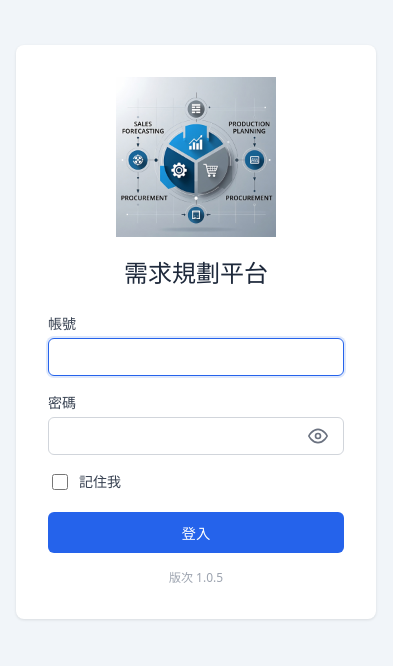
Test: LoginPage › shows validation error when submitting empty form
Click the button "登入" at (196, 532), box [48,512,344,553]
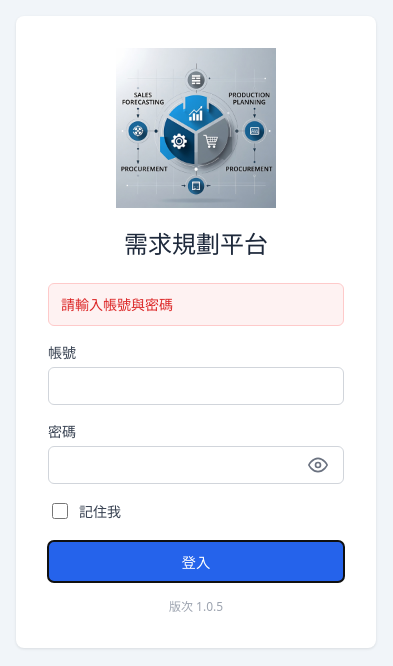
Now the message reads "請輸入帳號與密碼", box [61,295,173,314]
